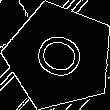O_E: (27, 27, 92, 86)
